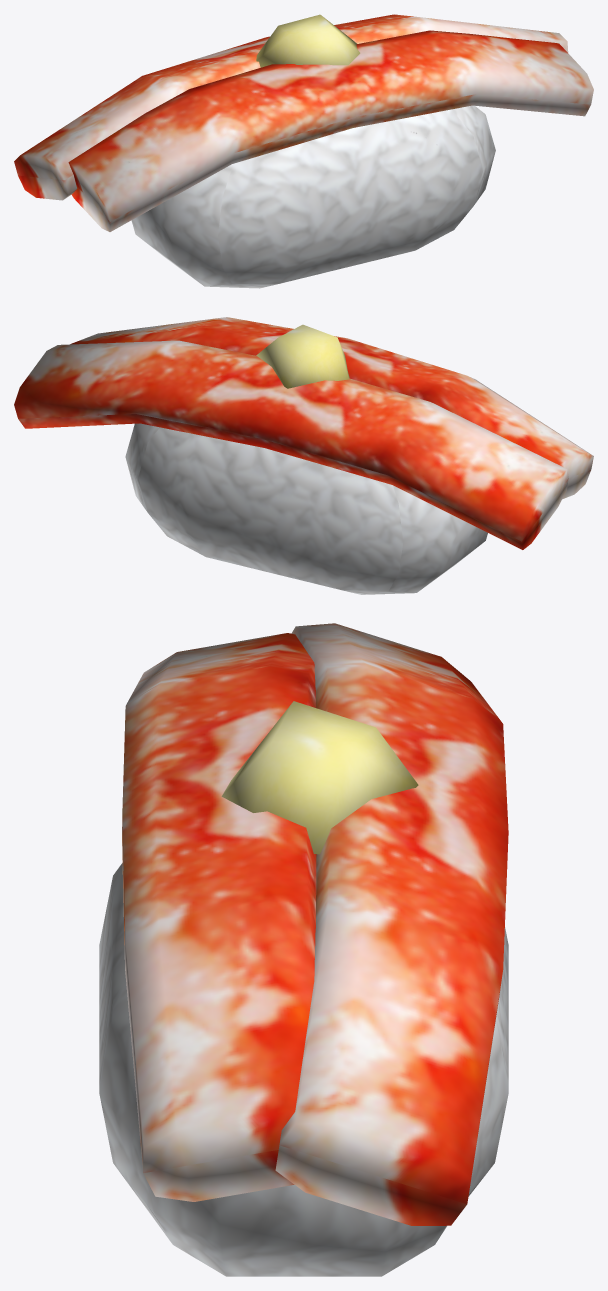
The model's file is crab_3.fbx.
The picture shows the model from 3 angles, top to bottom: view 1: azimuth 30°, elevation 25°; view 2: azimuth 150°, elevation 25°; view 3: azimuth 270°, elevation 25°; orthographic projection. The views are drawn at different scales.
Visible parts, largest first — view 1: crab_3; view 2: crab_3; view 3: crab_3.
Part boxes in pixels (left/top/right/bottom): crab_3: left=14, top=14, right=593, bottom=288; crab_3: left=14, top=317, right=593, bottom=594; crab_3: left=99, top=623, right=508, bottom=1276.
Size of the model in its own units: 9.04 by 3.86 by 3.13.
